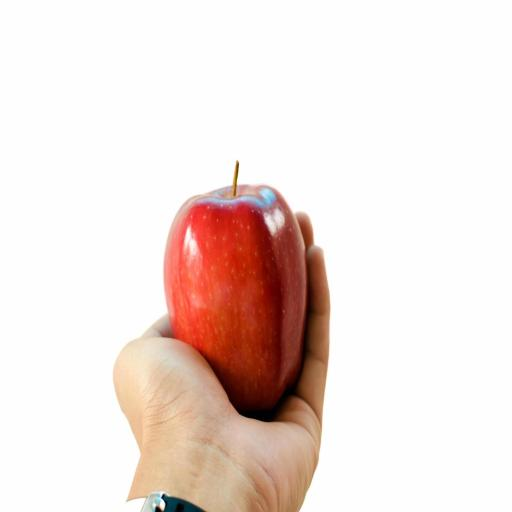apple: (164, 163, 307, 410)
